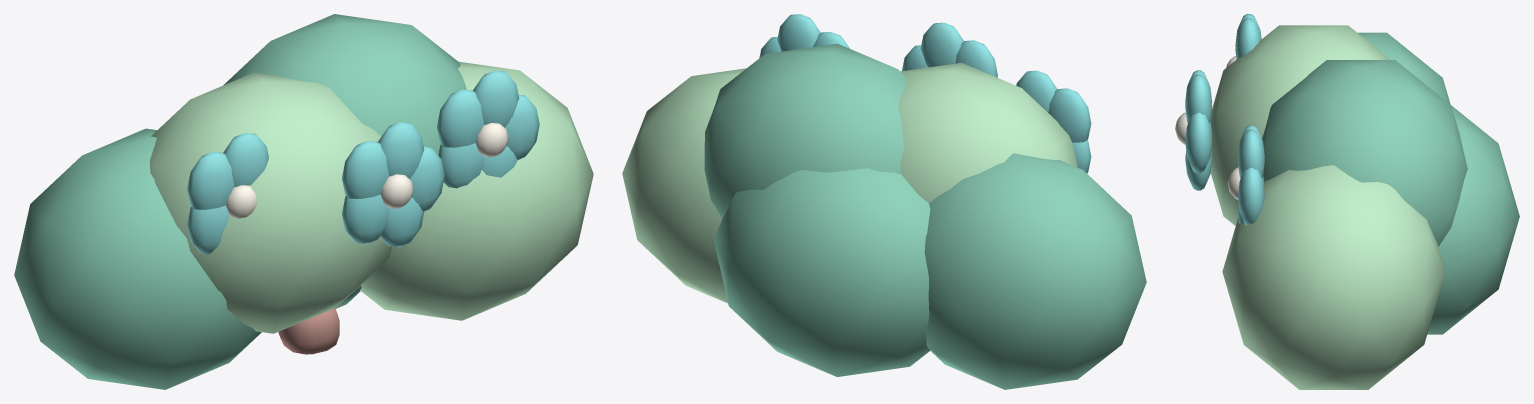
File: meadow_bush_3.glb
3 renders of one model, left to right at view 1: azimuth 30°, elevation 25°; view 2: azimuth 150°, elevation 25°; view 3: azimuth 270°, elevation 25°, orthographic. The views are drawn at different scales.
Visible parts, largest first — view 1: LeafMass_0.003, LeafMass_1.003, LeafMass_3.003, LeafMass_2.003, Flower_2_Petal_2.003, Flower_3_Petal_2.003, Flower_4_Petal_2.003, Root.003, Flower_4_Petal_1.003, Flower_3_Petal_1.003, Flower_3_Petal_3.003, Flower_2_Petal_1.003 (+9 smaller); view 2: LeafMass_0.003, LeafMass_4.003, LeafMass_2.003, LeafMass_1.003, LeafMass_3.003, Flower_2_Petal_2.003, Flower_3_Petal_1.003, Flower_4_Petal_1.003, Flower_3_Petal_2.003, Flower_2_Petal_1.003, Flower_3_Petal_0.003; view 3: LeafMass_3.003, LeafMass_2.003, LeafMass_1.003, LeafMass_4.003, LeafMass_0.003, Flower_3_Petal_0.003, Flower_4_Petal_0.003, Flower_4_Petal_1.003, Flower_3_Petal_1.003, Flower_2_Petal_1.003, Flower_3_Petal_4.003.
Part boxes in pixels (<box>): LeafMass_0.003: <box>14,128,261,389</box>; LeafMass_1.003: <box>149,72,391,333</box>; LeafMass_3.003: <box>360,61,593,320</box>; LeafMass_2.003: <box>223,14,466,155</box>; Flower_2_Petal_2.003: <box>187,152,234,209</box>; Flower_3_Petal_2.003: <box>342,141,388,198</box>; Flower_4_Petal_2.003: <box>437,89,484,147</box>; Root.003: <box>278,308,339,354</box>; Flower_4_Petal_1.003: <box>473,70,519,127</box>; Flower_3_Petal_1.003: <box>378,122,424,178</box>; Flower_3_Petal_3.003: <box>342,194,389,243</box>; Flower_2_Petal_1.003: <box>223,133,268,187</box>; LeafMass_0.003: <box>924,153,1146,389</box>; LeafMass_4.003: <box>713,168,930,376</box>; LeafMass_2.003: <box>704,43,906,218</box>; LeafMass_1.003: <box>898,62,1077,203</box>; LeafMass_3.003: <box>622,68,746,303</box>; Flower_2_Petal_2.003: <box>1048,88,1091,142</box>; Flower_3_Petal_1.003: <box>920,22,963,67</box>; Flower_4_Petal_1.003: <box>777,14,820,51</box>; Flower_3_Petal_2.003: <box>955,40,997,77</box>; Flower_2_Petal_1.003: <box>1016,70,1057,112</box>; Flower_3_Petal_0.003: <box>902,45,928,71</box>; LeafMass_3.003: <box>1222,165,1445,389</box>; LeafMass_2.003: <box>1262,60,1467,246</box>; LeafMass_1.003: <box>1210,25,1390,225</box>; LeafMass_4.003: <box>1427,105,1519,334</box>; LeafMass_0.003: <box>1358,32,1450,104</box>; Flower_3_Petal_0.003: <box>1185,112,1212,173</box>; Flower_4_Petal_0.003: <box>1238,167,1264,225</box>; Flower_4_Petal_1.003: <box>1238,129,1264,178</box>; Flower_3_Petal_1.003: <box>1185,74,1212,123</box>; Flower_2_Petal_1.003: <box>1235,18,1260,59</box>; Flower_3_Petal_4.003: <box>1185,151,1212,190</box>.
Bounding box in the file's own units: 3.3 × 1.83 × 2.04.
